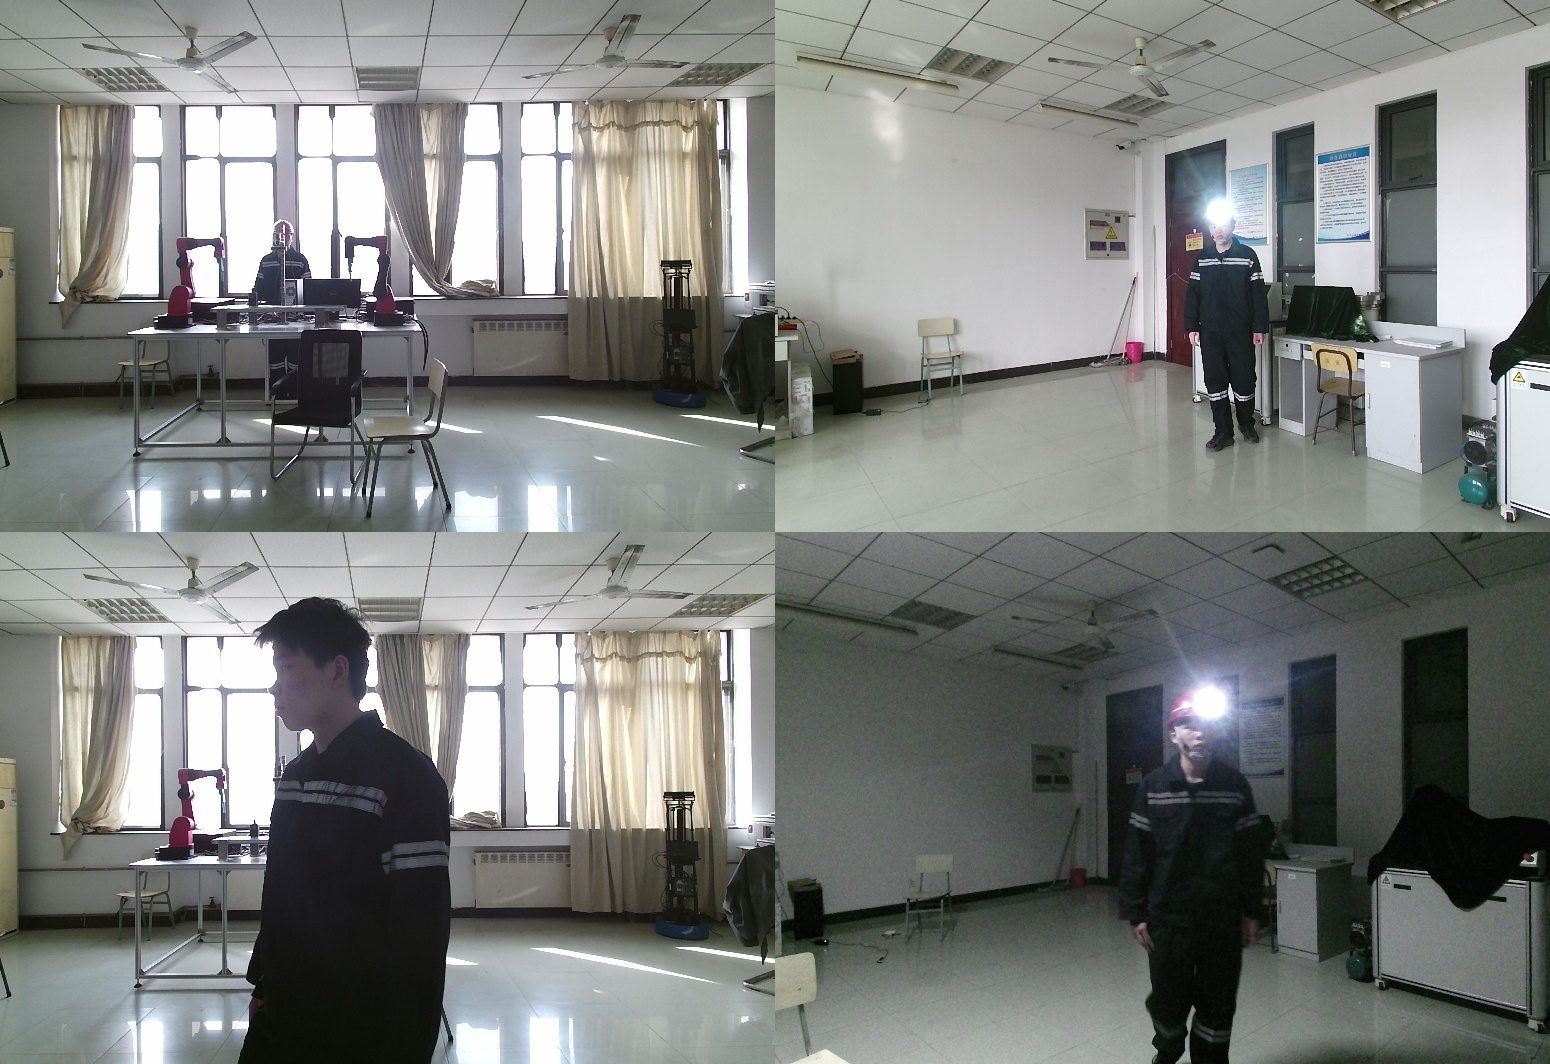person: (250, 596, 496, 1064), (1117, 693, 1269, 1064), (1191, 205, 1281, 452), (251, 222, 312, 402)
